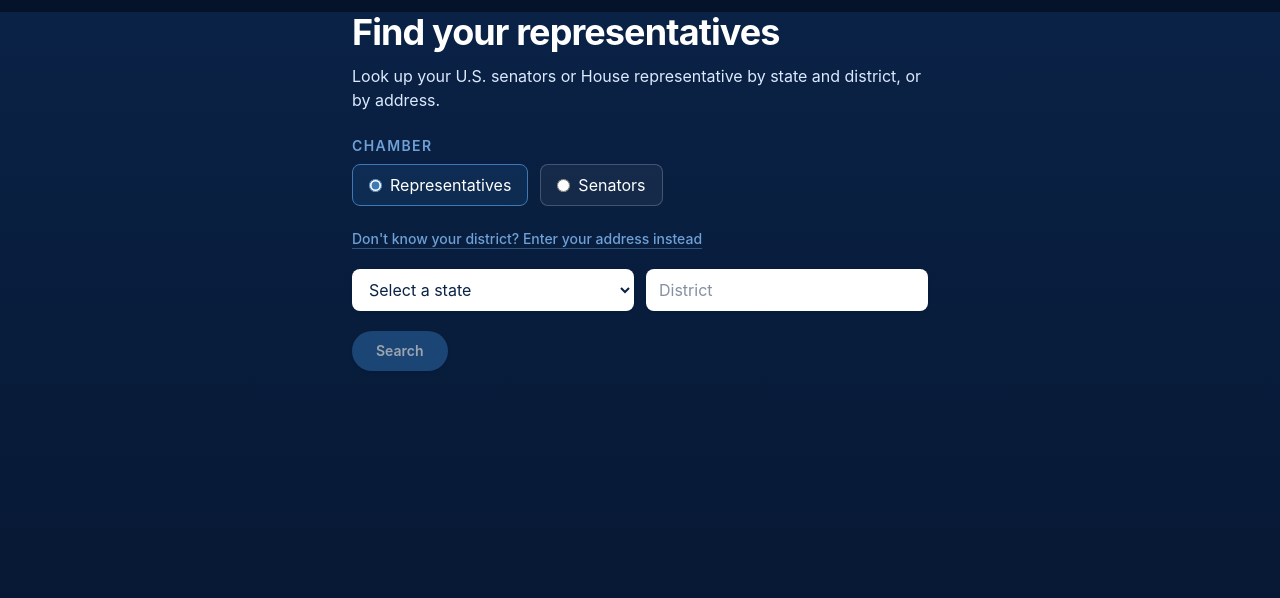
address lookup availability regression › keeps the address flow usable while getStates() is still pending
Click the button "Don't know your district? Enter your address instead": (527, 239) x1=352 y1=229 x2=702 y2=249
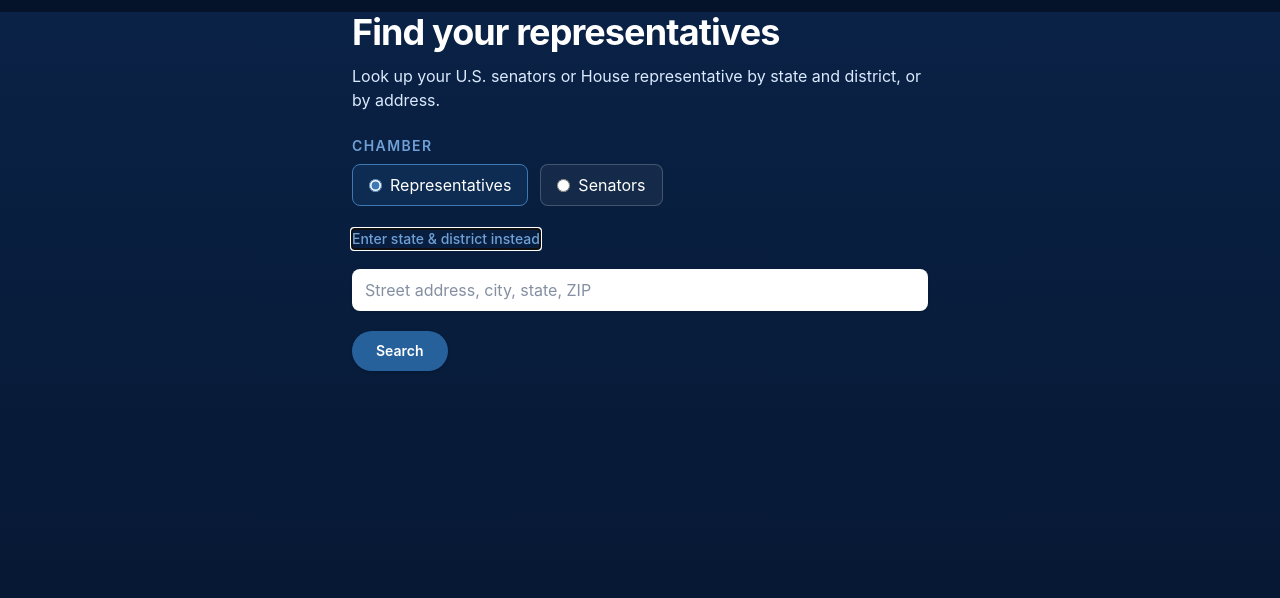
Expected: the field with placeholder "Street address, city, state, ZIP" is enabled, x1=352 y1=269 x2=928 y2=311
Expected: the button "Search" is enabled, x1=352 y1=331 x2=448 y2=371
